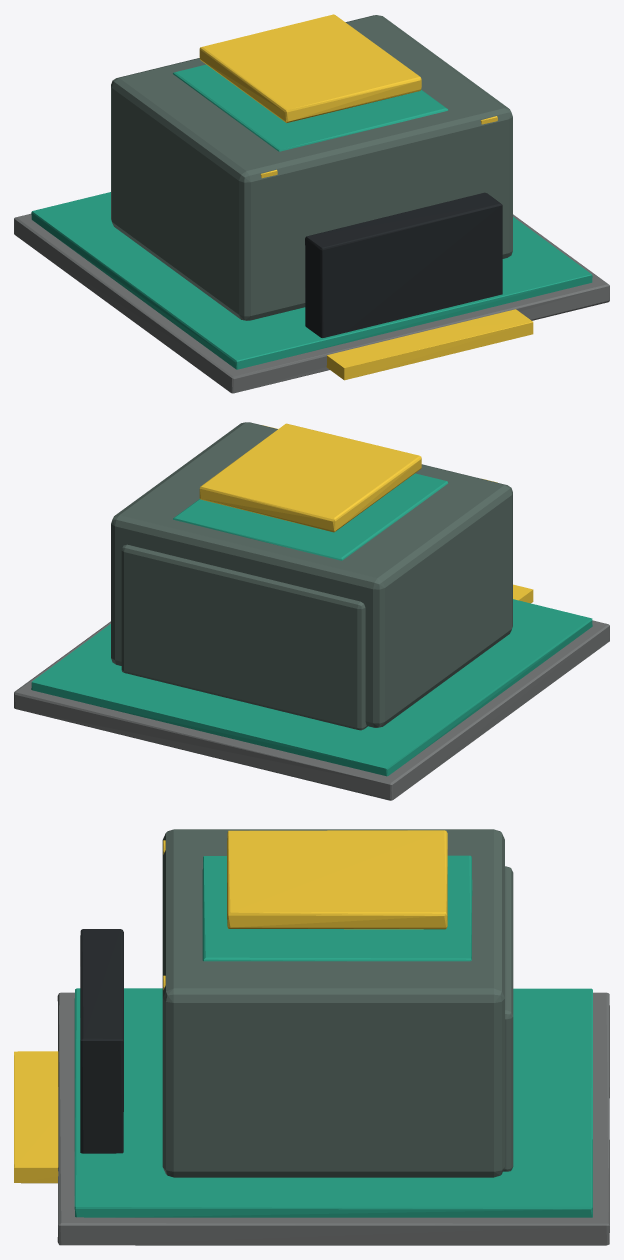
Rendered from SM_Coalition_CO_WarFactory_LOD1.fbx.
3 views of the same model, one above another, from view 1: azimuth 30°, elevation 25°; view 2: azimuth 150°, elevation 25°; view 3: azimuth 270°, elevation 25° (orthographic). The views are drawn at different scales.
Visible parts, largest first — view 1: LOD01_SM_Coalition_CO_WarFactory; view 2: LOD01_SM_Coalition_CO_WarFactory; view 3: LOD01_SM_Coalition_CO_WarFactory.
Part boxes in pixels (x1,y1,x2,y2): LOD01_SM_Coalition_CO_WarFactory: (14, 14, 609, 393); LOD01_SM_Coalition_CO_WarFactory: (14, 422, 609, 800); LOD01_SM_Coalition_CO_WarFactory: (14, 829, 609, 1245).
Bounding box in the file's own units: 799 × 863 × 415.
